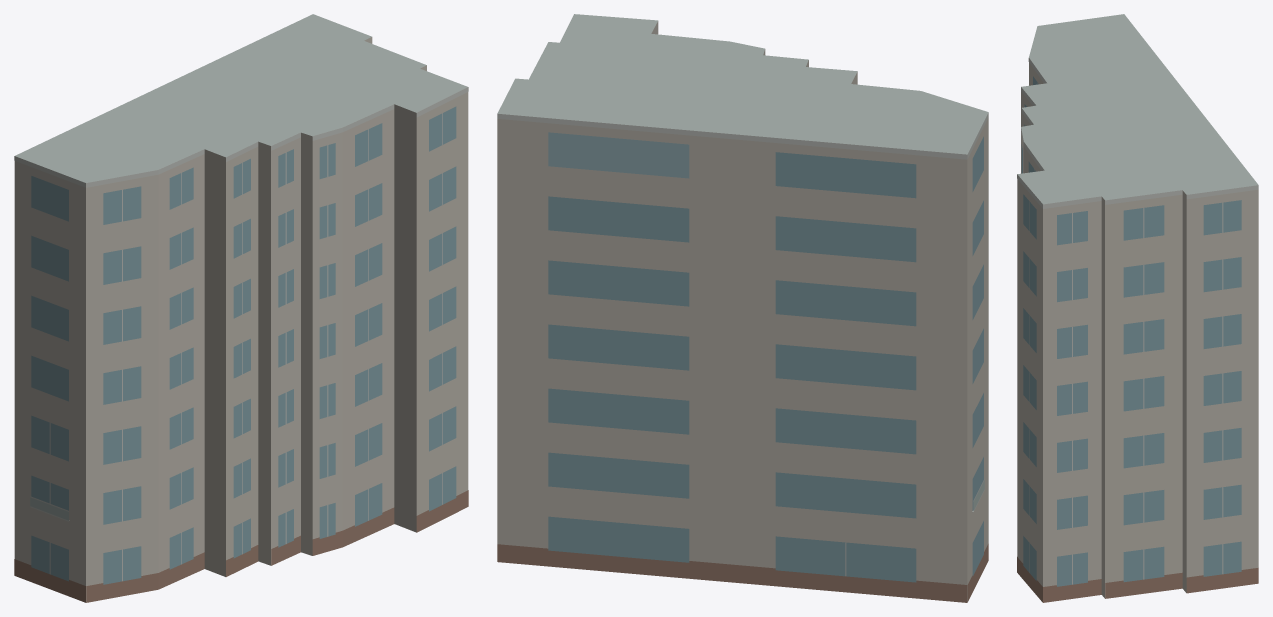
The model's file is survey-upis-32763973.glb.
The picture shows the model from 3 angles, left to right: view 1: azimuth 30°, elevation 25°; view 2: azimuth 150°, elevation 25°; view 3: azimuth 270°, elevation 25°; orthographic projection. The views are drawn at different scales.
Visible parts, largest first — view 1: survey-upis-32763973.tmp; view 2: survey-upis-32763973.tmp; view 3: survey-upis-32763973.tmp.
Part boxes in pixels (left/top/right/bottom): survey-upis-32763973.tmp: left=14, top=14, right=468, bottom=602; survey-upis-32763973.tmp: left=497, top=14, right=988, bottom=602; survey-upis-32763973.tmp: left=1017, top=14, right=1258, bottom=602.
Bounding box in the file's own units: 22.05 × 21.5 × 11.82.
